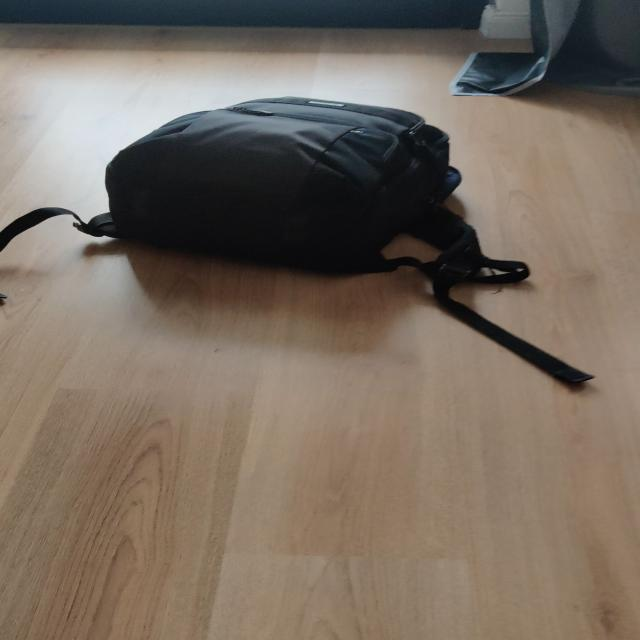backpack: (78, 92, 479, 278)
